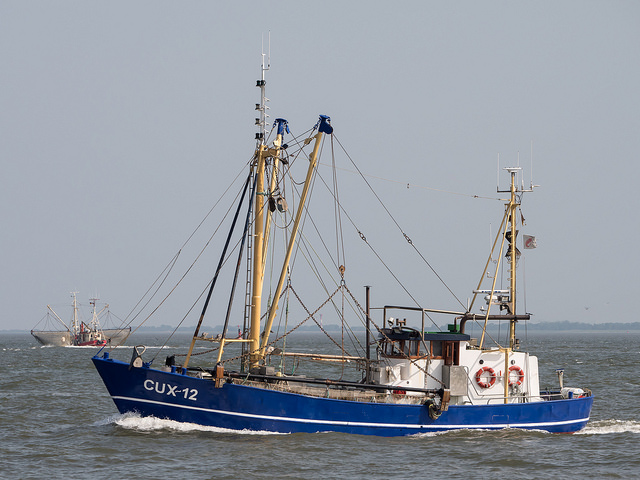fishing_boat: (91, 40, 596, 439), (28, 288, 135, 351)
